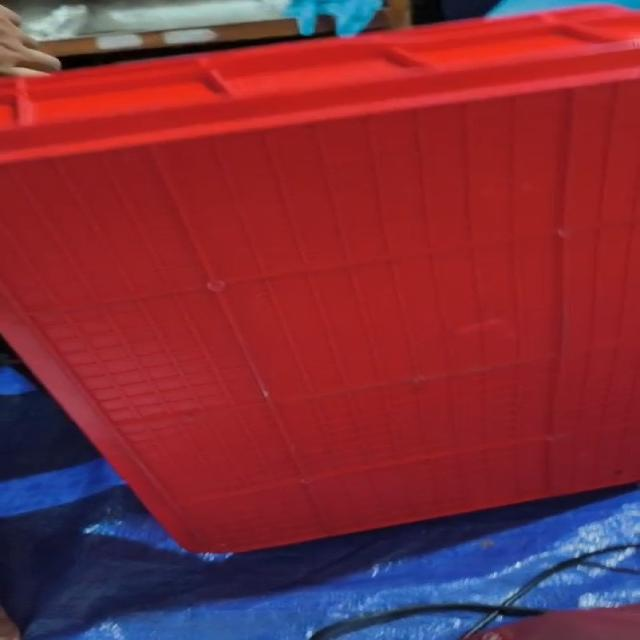red plastic box: (0, 5, 639, 555)
